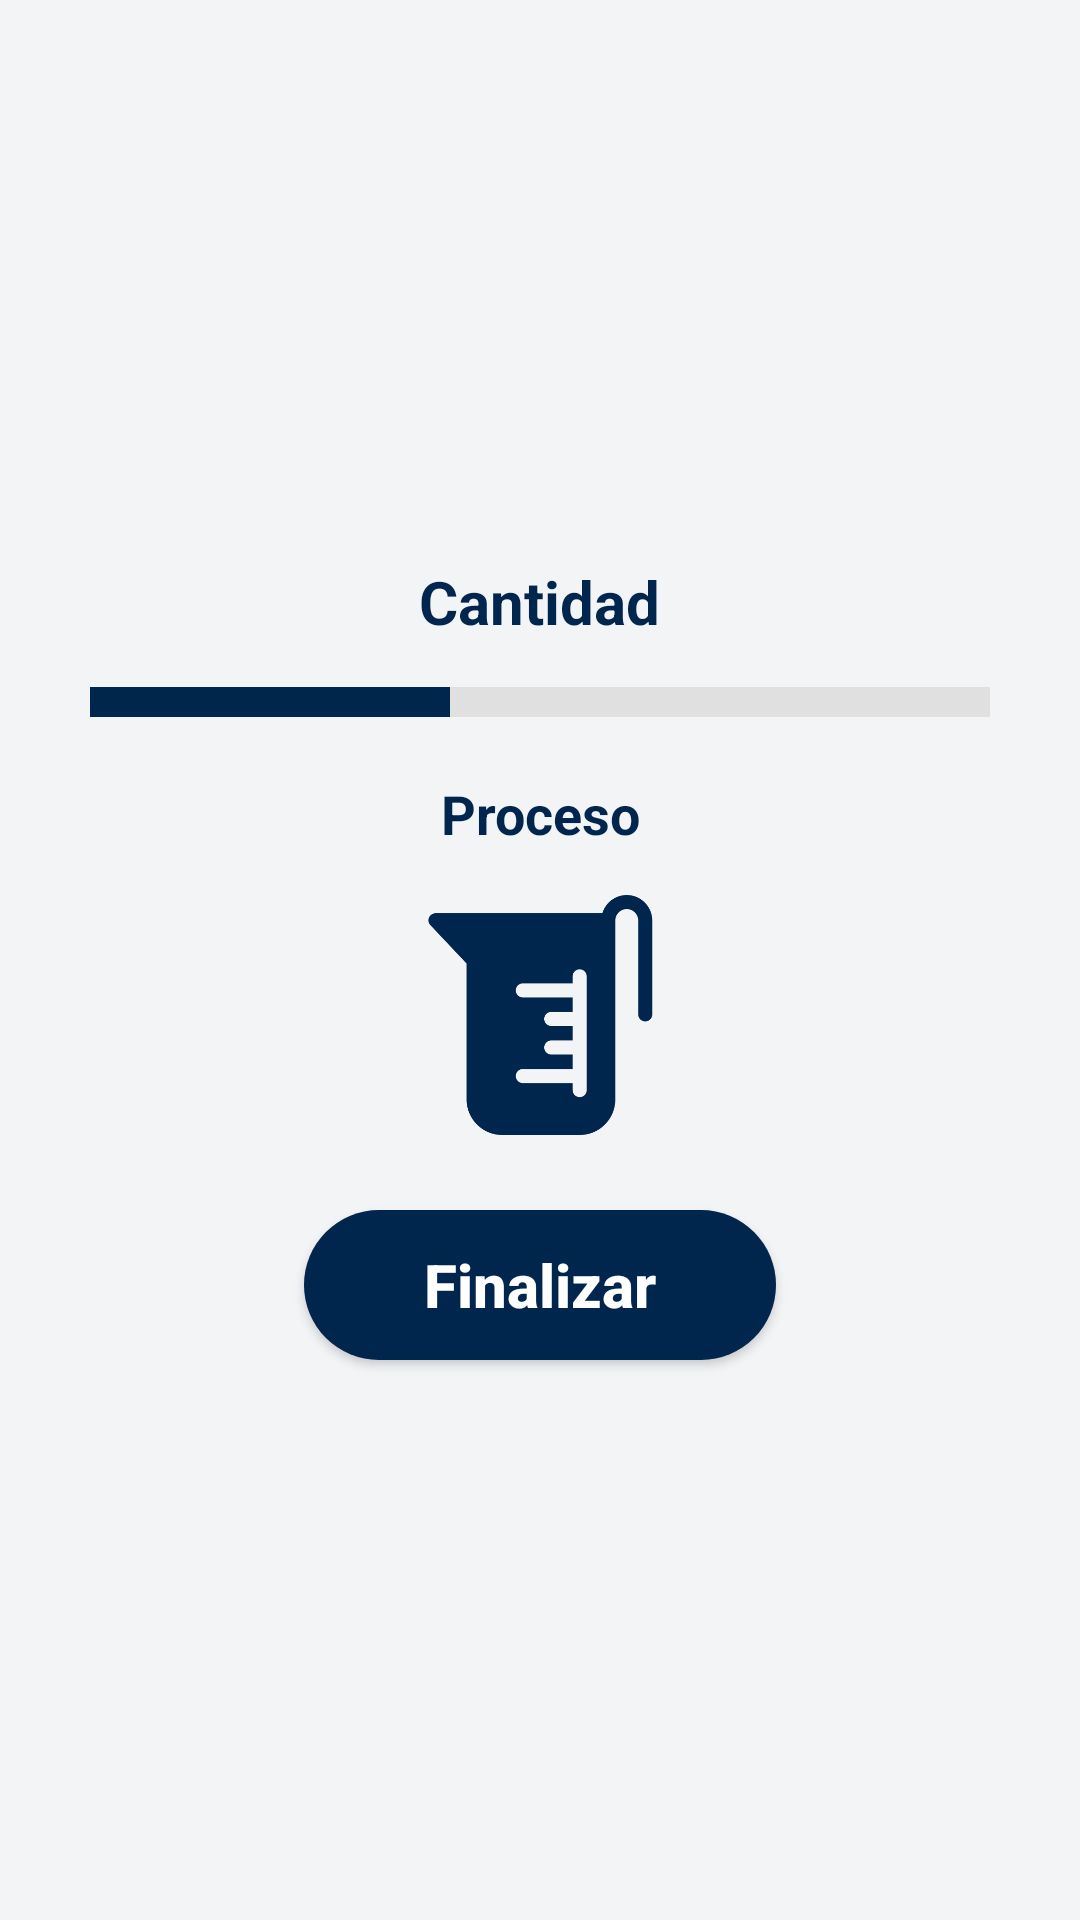

Icons on this 1080*1920 Android screen, each with the point to tap as (x=x, y=y):
litros: (x=540, y=1015)
